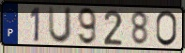1: (29, 6, 41, 43)
2: (103, 8, 124, 47)
8: (130, 10, 151, 47)
9: (76, 7, 98, 47)
O: (154, 10, 178, 49)
U: (47, 5, 74, 45)
